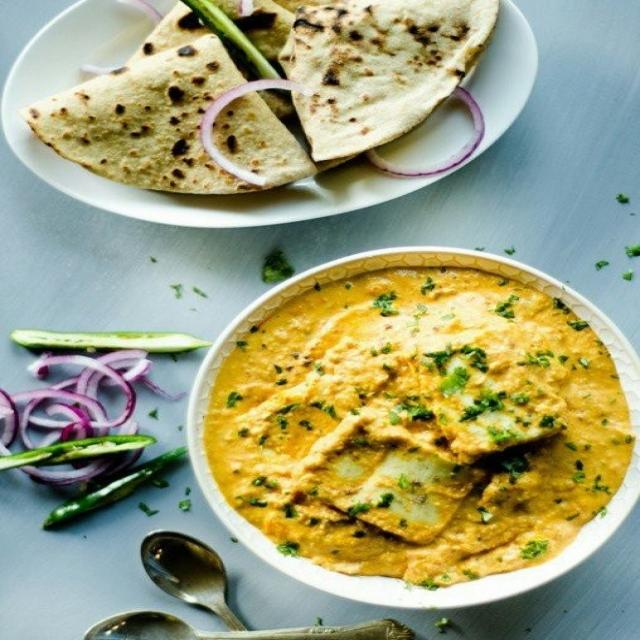ShahiPaneer: (210, 253, 640, 588)
